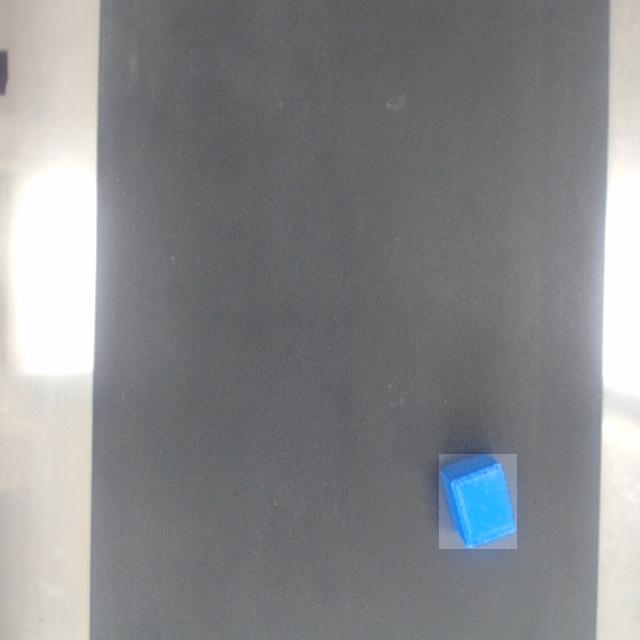Azul: (440, 455, 517, 549)
